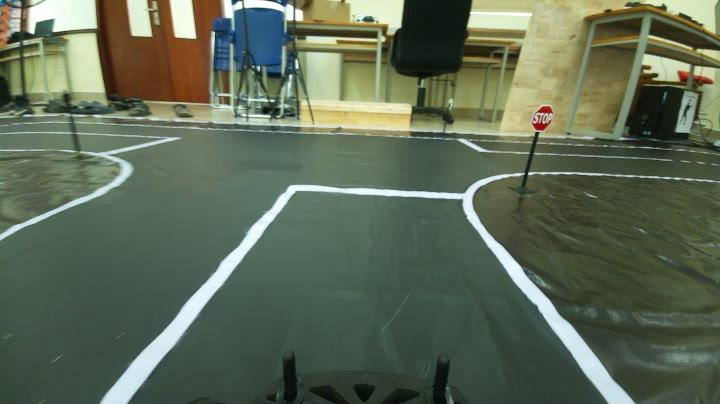stop: (530, 102, 558, 133)
